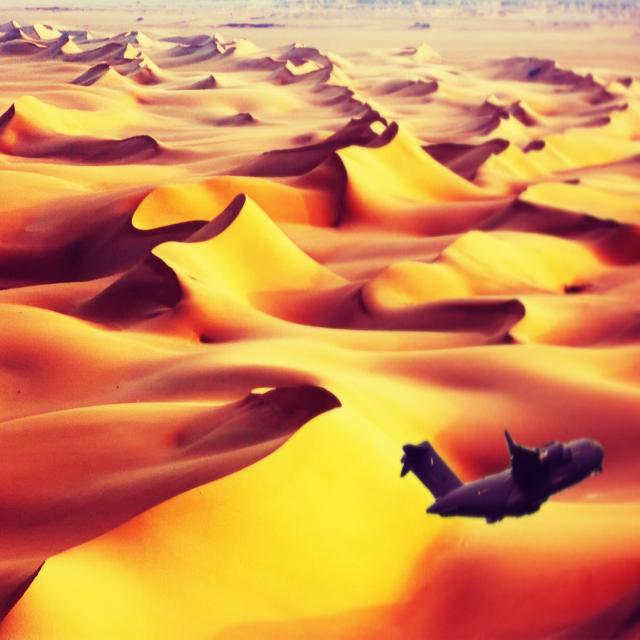airplane: (400, 427, 604, 524)
